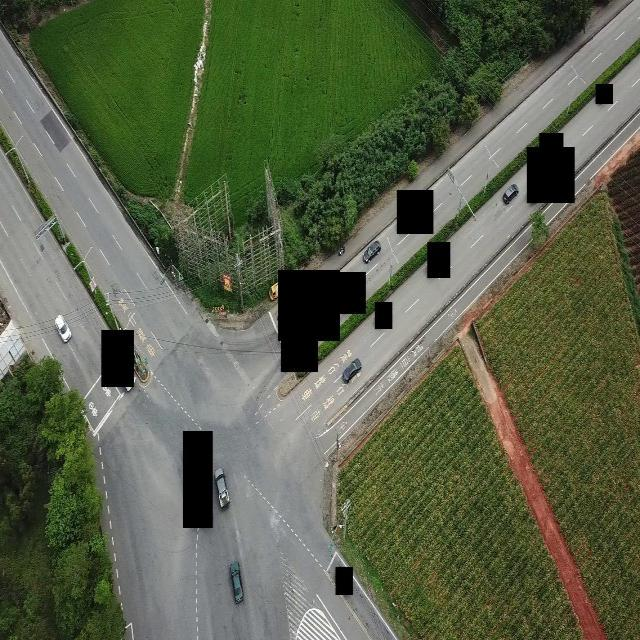car: (213, 465, 230, 510), (228, 561, 244, 604), (341, 355, 361, 383), (362, 239, 380, 263), (56, 315, 70, 342), (502, 182, 518, 203)
